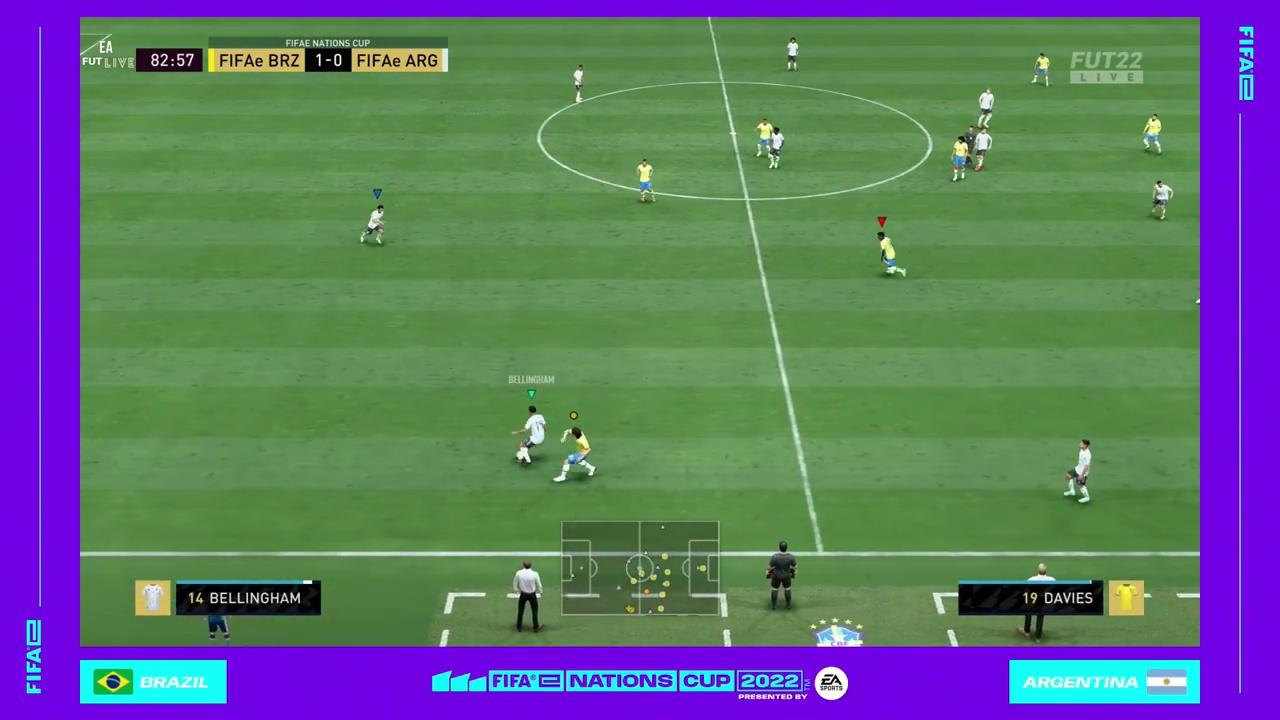scoreboard: (207, 47, 451, 76)
timestamp: (136, 48, 205, 71)
